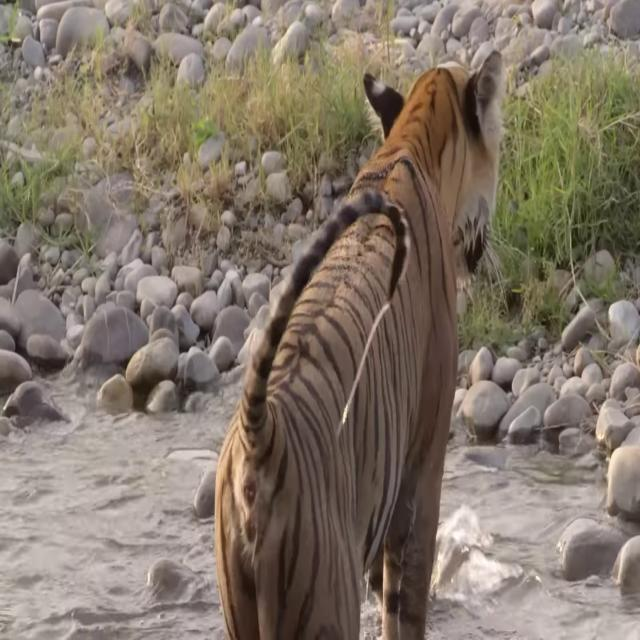tiger: (213, 47, 504, 640)
